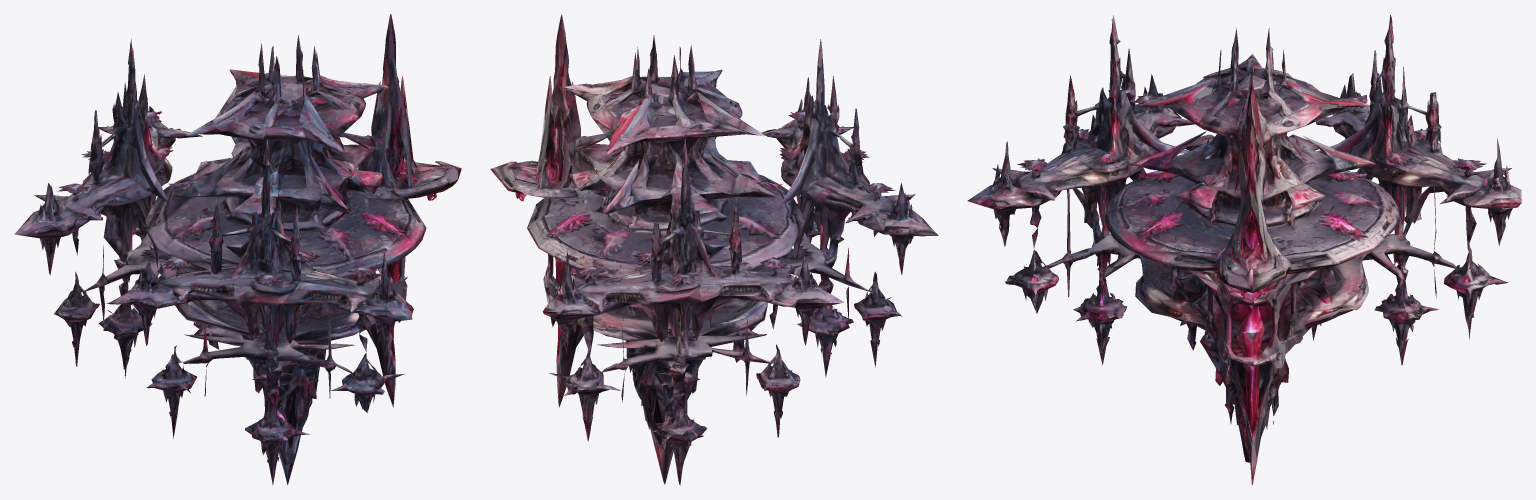
Rendered from kaijurai_station_game.glb.
3 views of the same model, side by side, from view 1: azimuth 30°, elevation 25°; view 2: azimuth 150°, elevation 25°; view 3: azimuth 270°, elevation 25° (orthographic). The views are drawn at different scales.
Parts seen in each view (by area): view 1: kaijurai_station; view 2: kaijurai_station; view 3: kaijurai_station.
Boxes of the visible parts, <box> form: kaijurai_station: <box>14,14,461,484</box>; kaijurai_station: <box>490,14,938,485</box>; kaijurai_station: <box>967,15,1521,485</box>.
Size of the model in its own units: 0.8109 by 0.8595 by 0.9492.
Materials: 1 (1 with a texture image).
